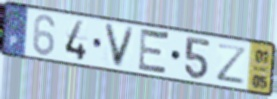4: (62, 18, 88, 63)
5: (184, 34, 212, 82)
6: (31, 13, 57, 58)
E: (136, 26, 172, 79)
V: (102, 21, 138, 70)
Z: (216, 42, 250, 86)
